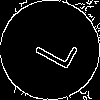L: (25, 25, 79, 72)
